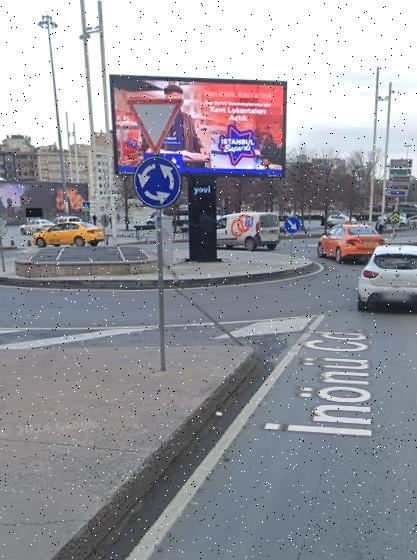crossroads: (136, 159, 181, 206)
